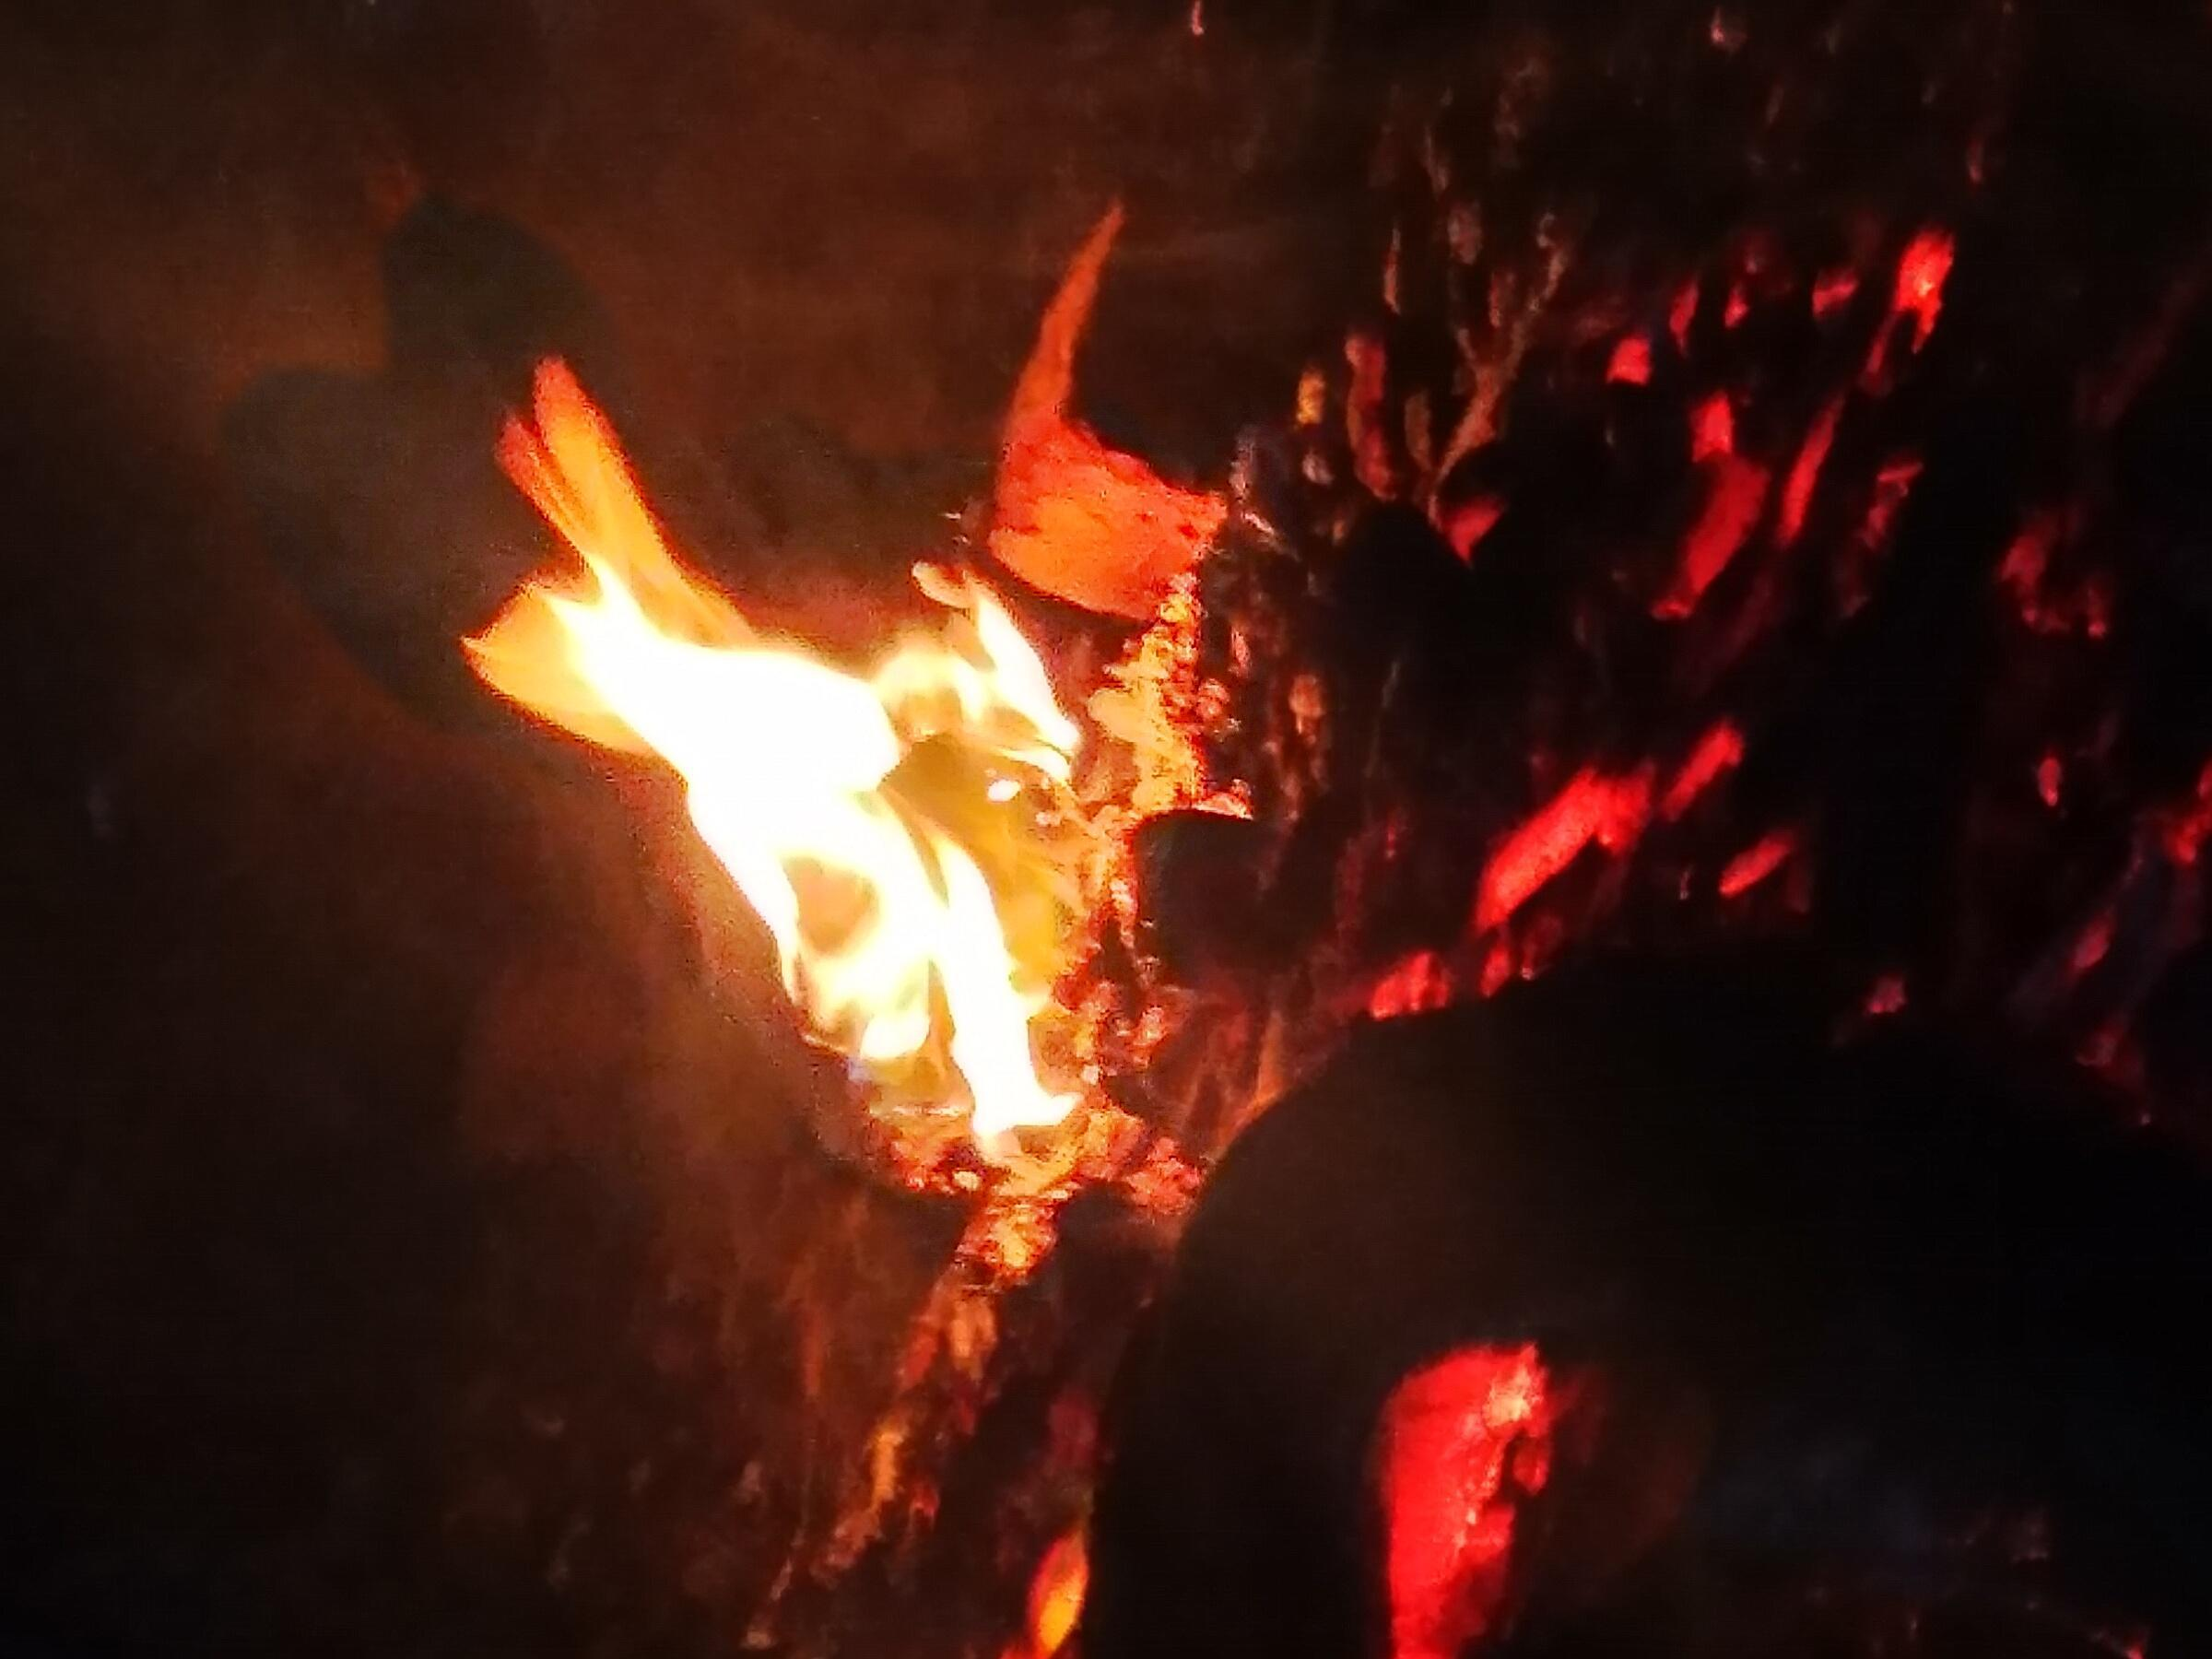fire: (529, 342, 1737, 931)
